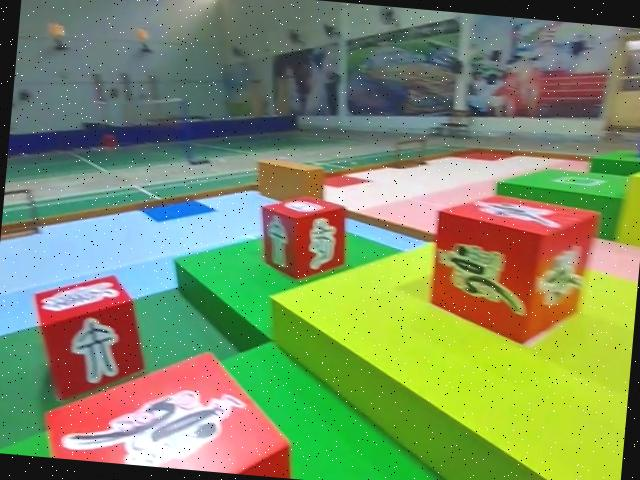R1: (37, 339, 298, 479), (428, 189, 599, 345)
R2 Fake: (24, 268, 151, 407), (255, 191, 349, 282)
